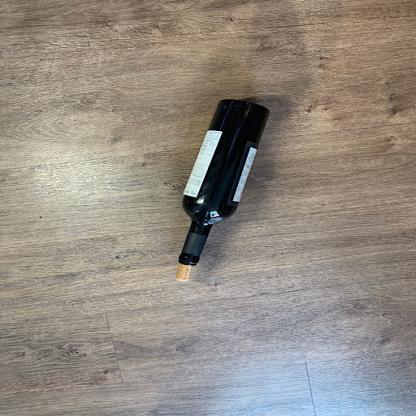trash: (176, 100, 268, 267)
